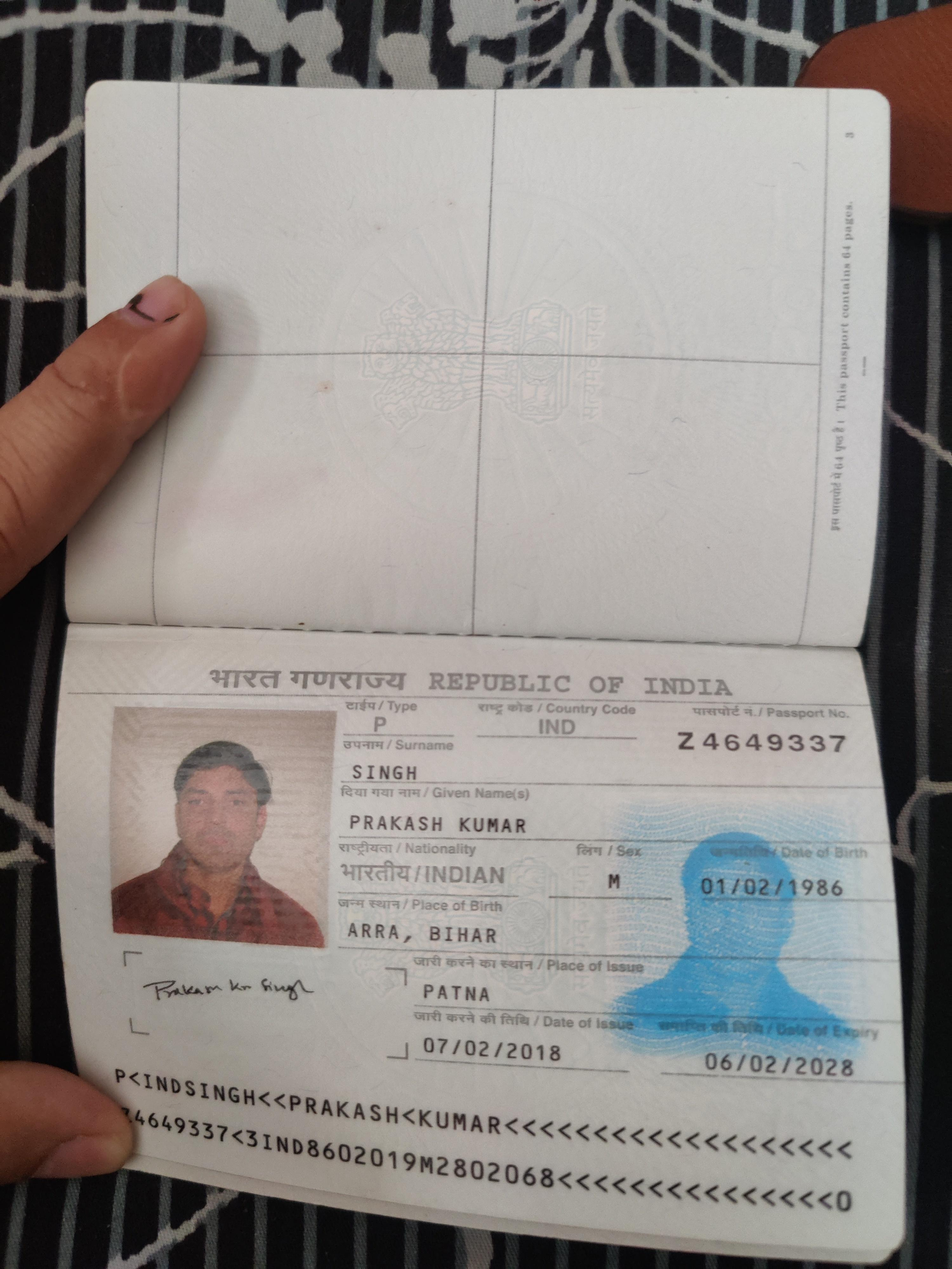DOB: (694, 867, 852, 903)
Surname: (344, 759, 433, 783)
country_code: (531, 710, 583, 740)
date_of_expiry: (695, 1042, 861, 1083)
date_of_issue: (415, 1028, 561, 1071)
details: (103, 1053, 862, 1227)
name: (343, 810, 539, 834)
nationality: (331, 856, 509, 889)
passport_no: (671, 724, 846, 762)
photo: (114, 705, 317, 937)
place_of_birth: (348, 917, 524, 953)
place_of_issue: (420, 974, 499, 1010)
sex: (598, 865, 636, 899)
sign: (143, 963, 324, 1012)
type: (360, 712, 399, 739)
